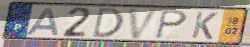2: (61, 6, 93, 38)
A: (25, 7, 61, 37)
D: (91, 6, 126, 40)
K: (190, 11, 220, 41)
P: (155, 9, 189, 40)
V: (127, 8, 162, 40)
